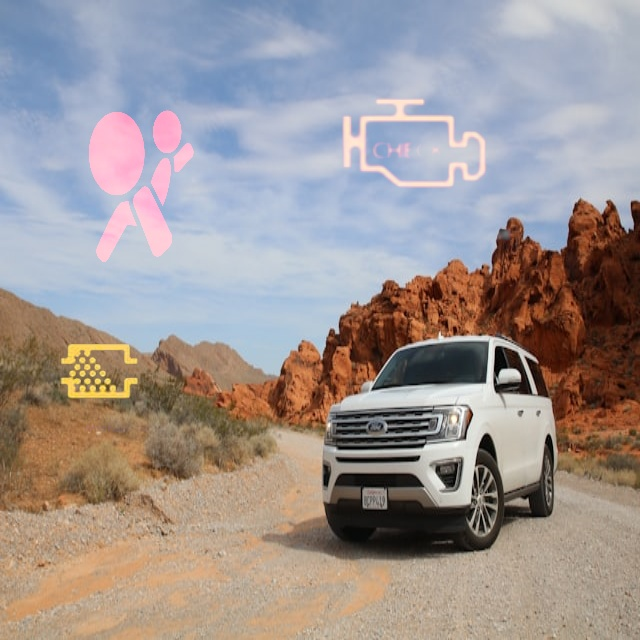symbol: (307, 38, 519, 250), (33, 80, 236, 283), (33, 305, 167, 439)
